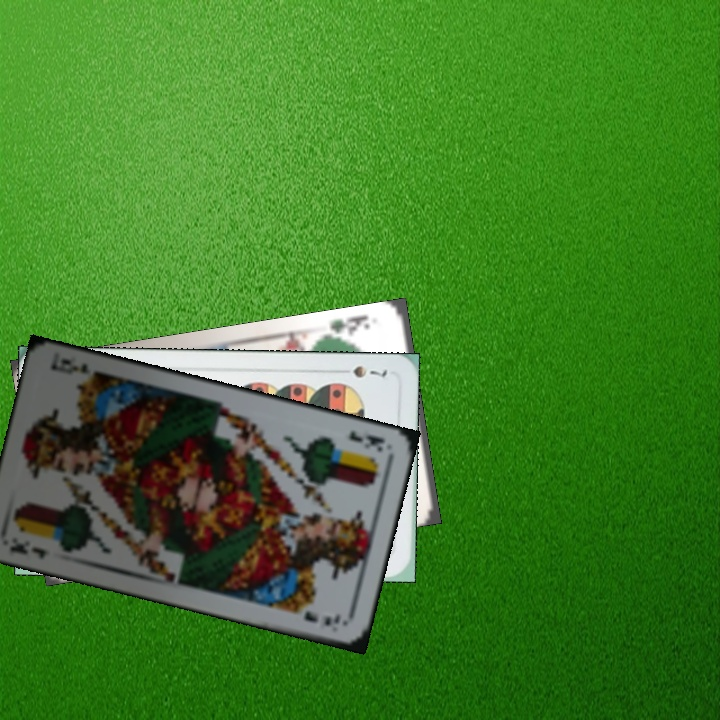EK: (344, 425, 388, 455), (6, 536, 53, 562)
GK: (325, 311, 372, 342)
S7: (333, 361, 389, 381)
